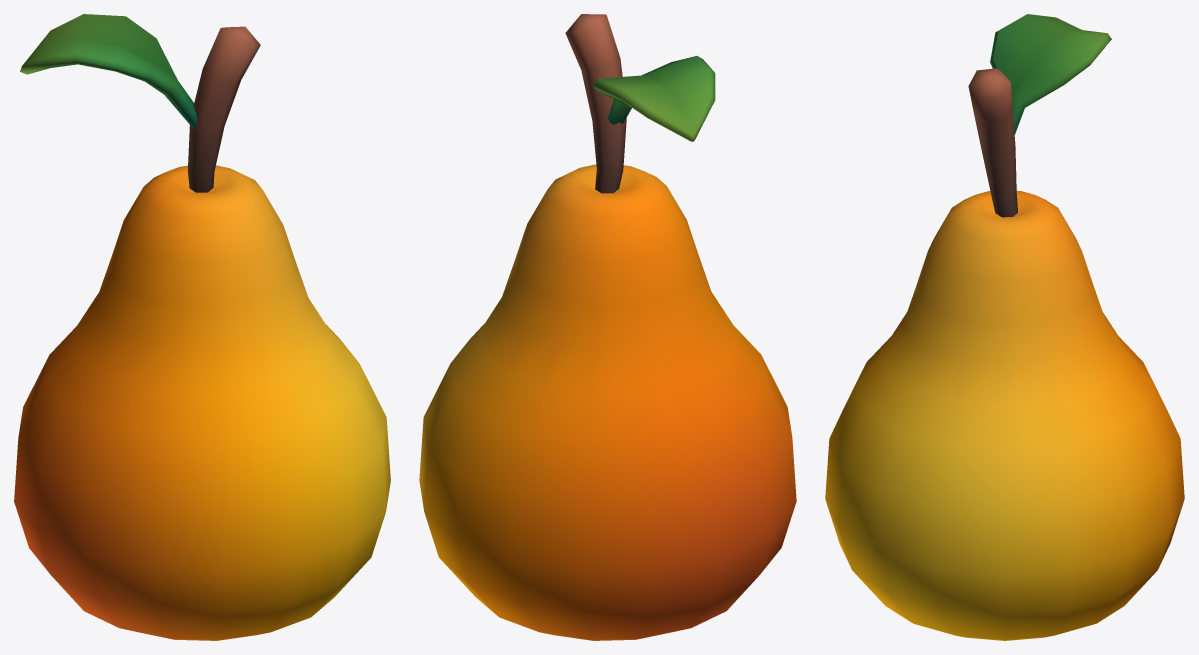
Rendered from pear_002.fbx.
3 views of the same model, side by side, from view 1: azimuth 30°, elevation 25°; view 2: azimuth 150°, elevation 25°; view 3: azimuth 270°, elevation 25° (orthographic). The views are drawn at different scales.
Parts seen in each view (by area): view 1: pear_002; view 2: pear_002; view 3: pear_002.
Boxes of the visible parts, x1,y1,x2,y2 form: pear_002: [14, 14, 390, 640]; pear_002: [419, 14, 796, 640]; pear_002: [825, 14, 1184, 640].
Size of the model in its own units: 8.79 by 8.79 by 14.71.
